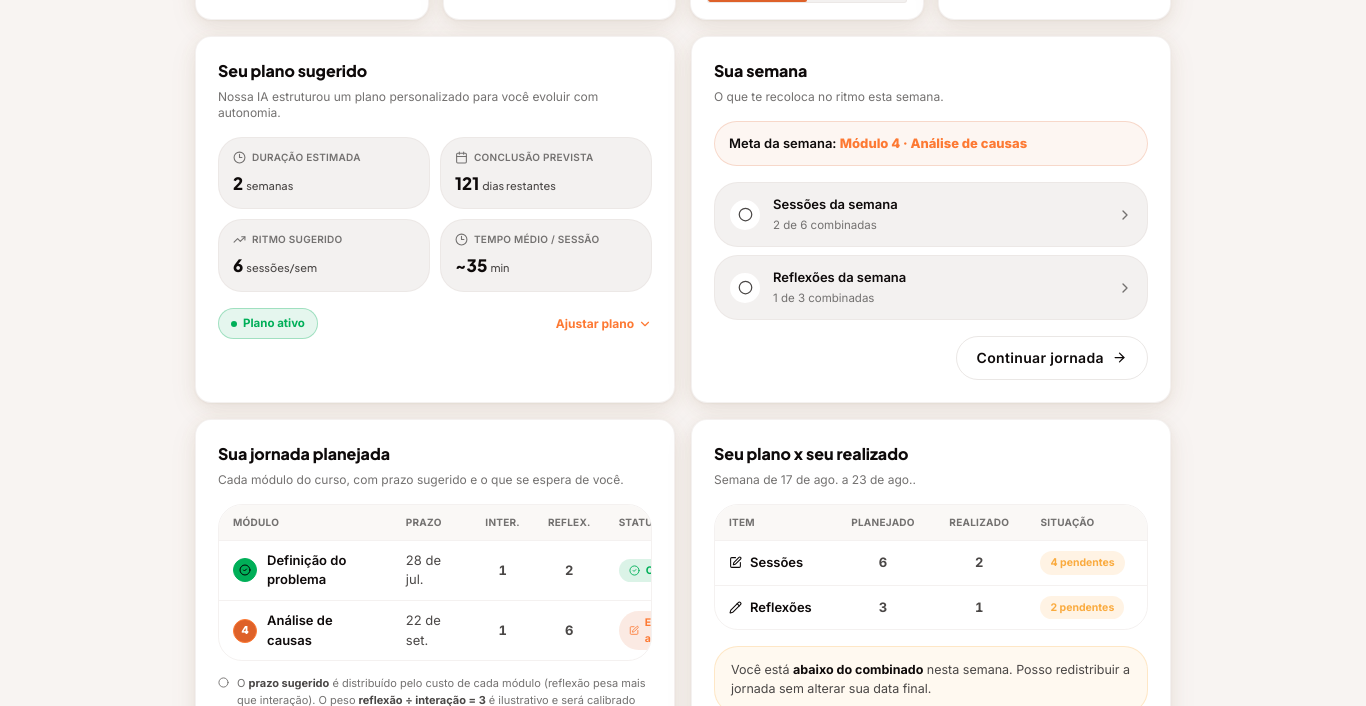
MeuPlanoClient — ajuste inline dentro de 'Seu plano sugerido' (SH-3.3 pivot) › clicar num dia alterna aria-pressed e recalcula o ritmo escolhido ao vivo (stat card)
(page scrolled)
Step 1. Click the button with test id "adjust-toggle" → (604, 324), box [556,316,652,332]
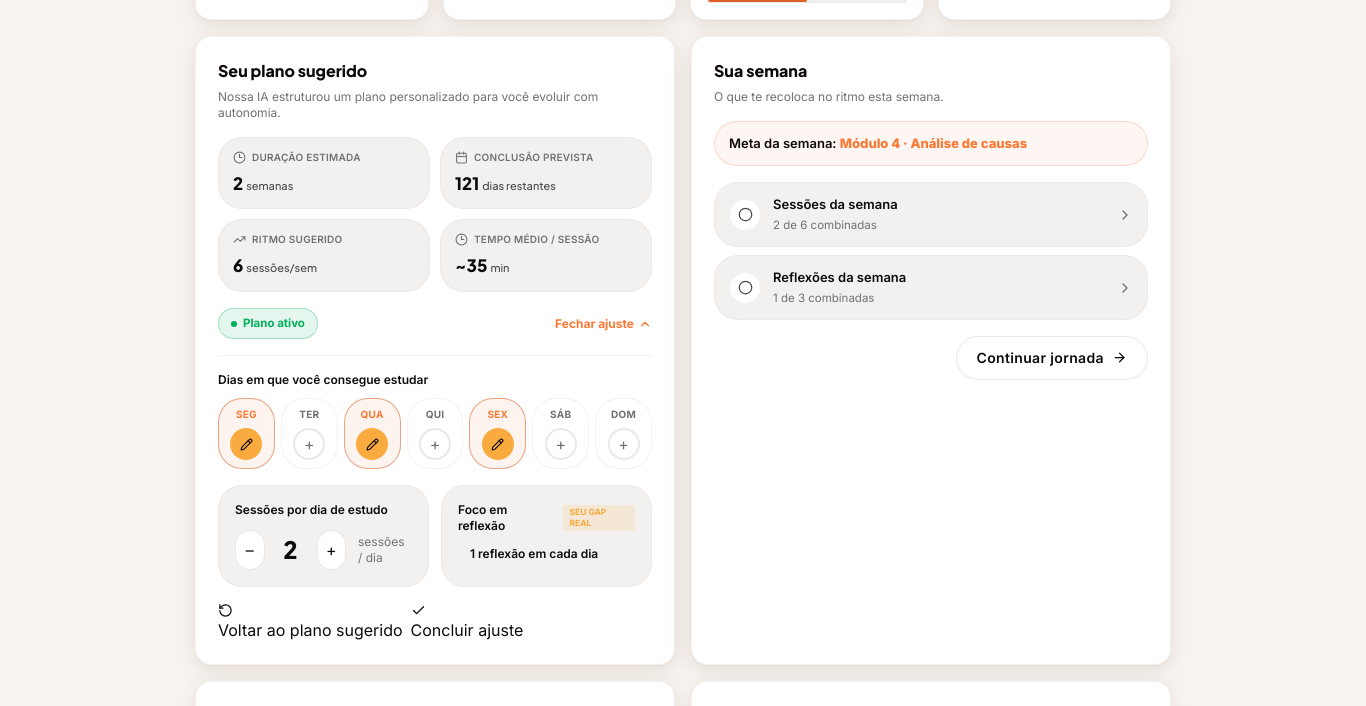
Step 2. Click the button "Ter +" → (309, 434), box [281,398,338,469]
(page scrolled)
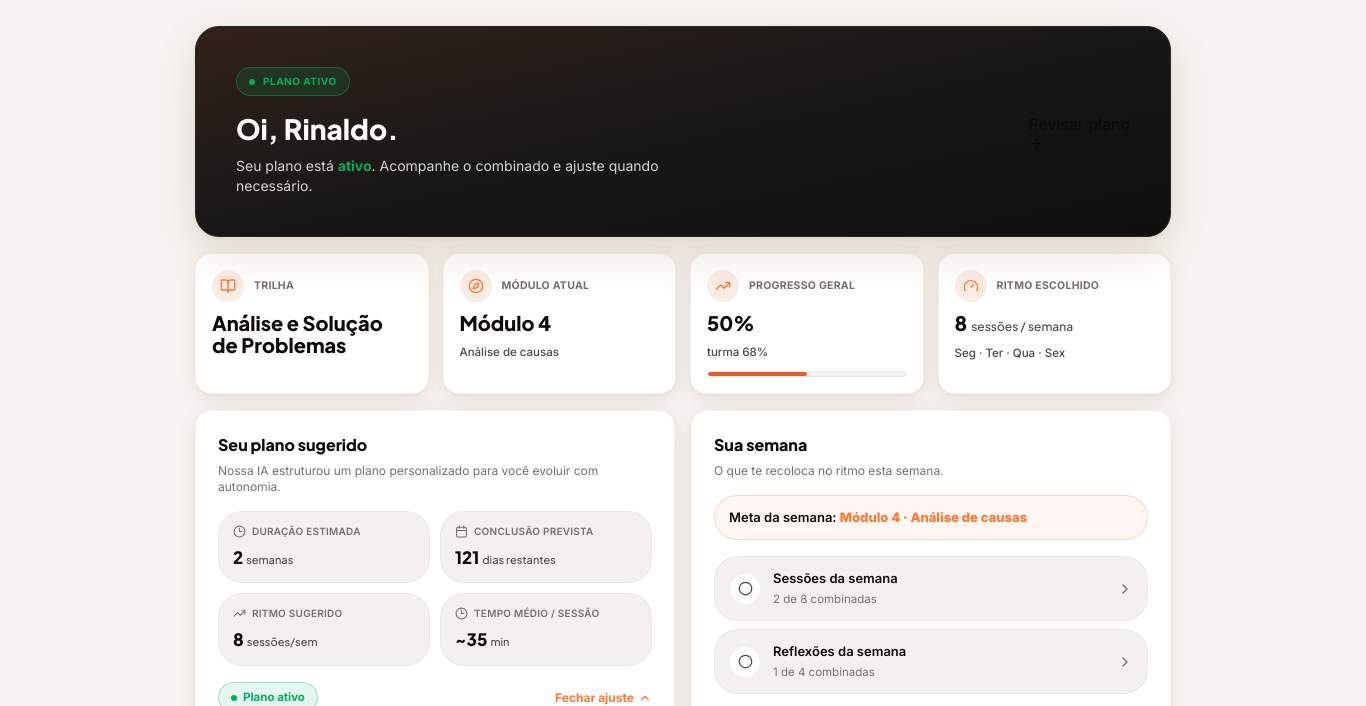
expect the element with test id "stat-ritmo-value" shows "8": met, box [954,310,967,335]
